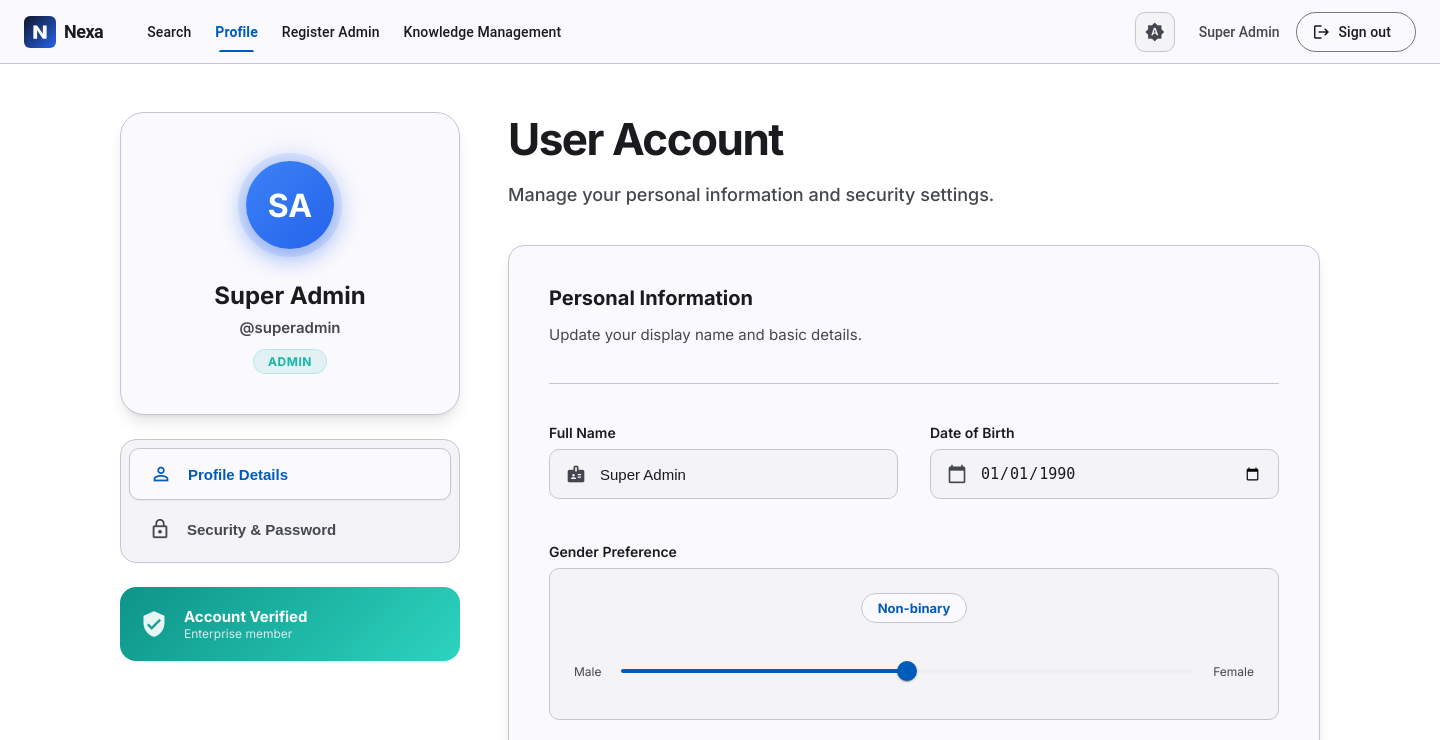
Scenario: Profile Management › entering a wrong current password shows an error
The width and height of the screenshot is (1440, 740).
Click the button "Security & Password" at {"x": 290, "y": 529}, box x1=129 y1=504 x2=451 y2=554
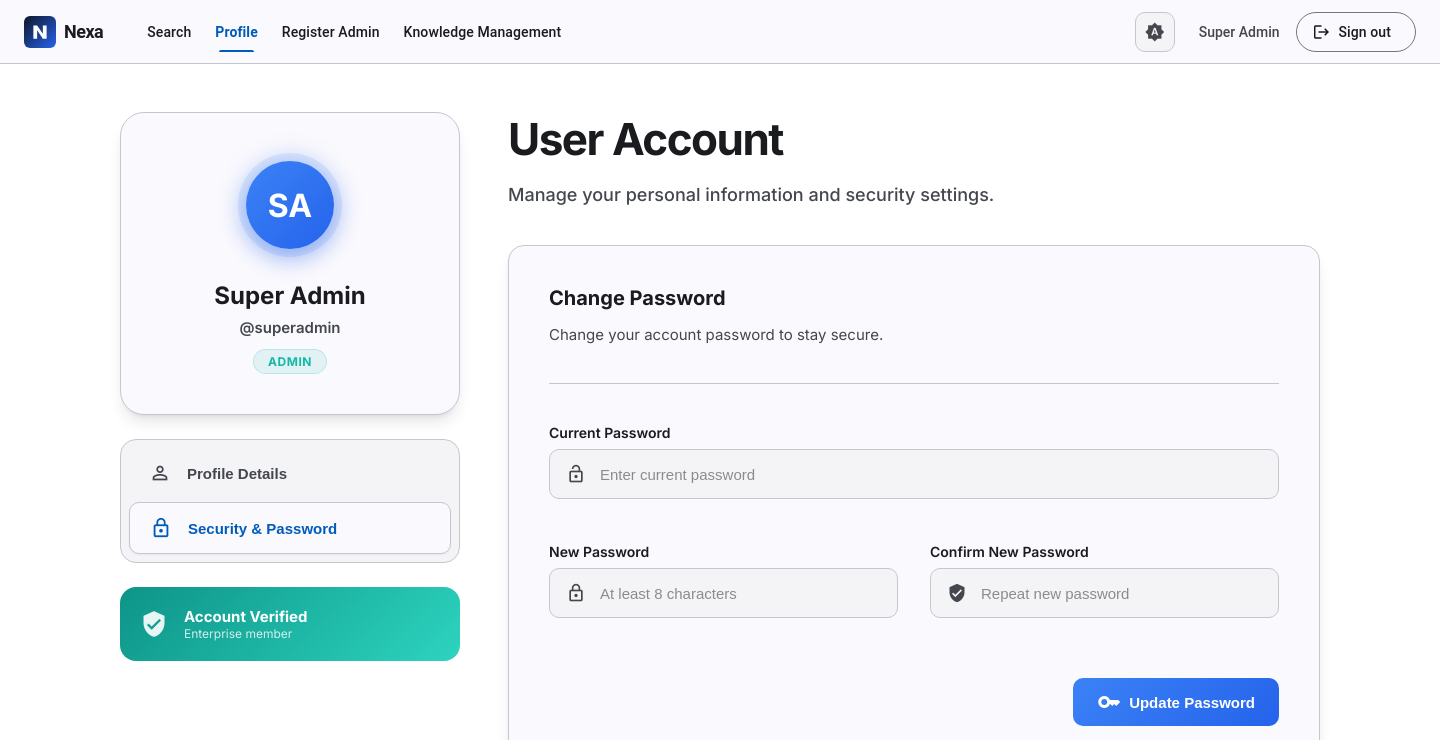
Type "wrongcurrentpassword" into the password field with id "s-current" at {"x": 930, "y": 474}, box x1=598 y1=450 x2=1262 y2=498
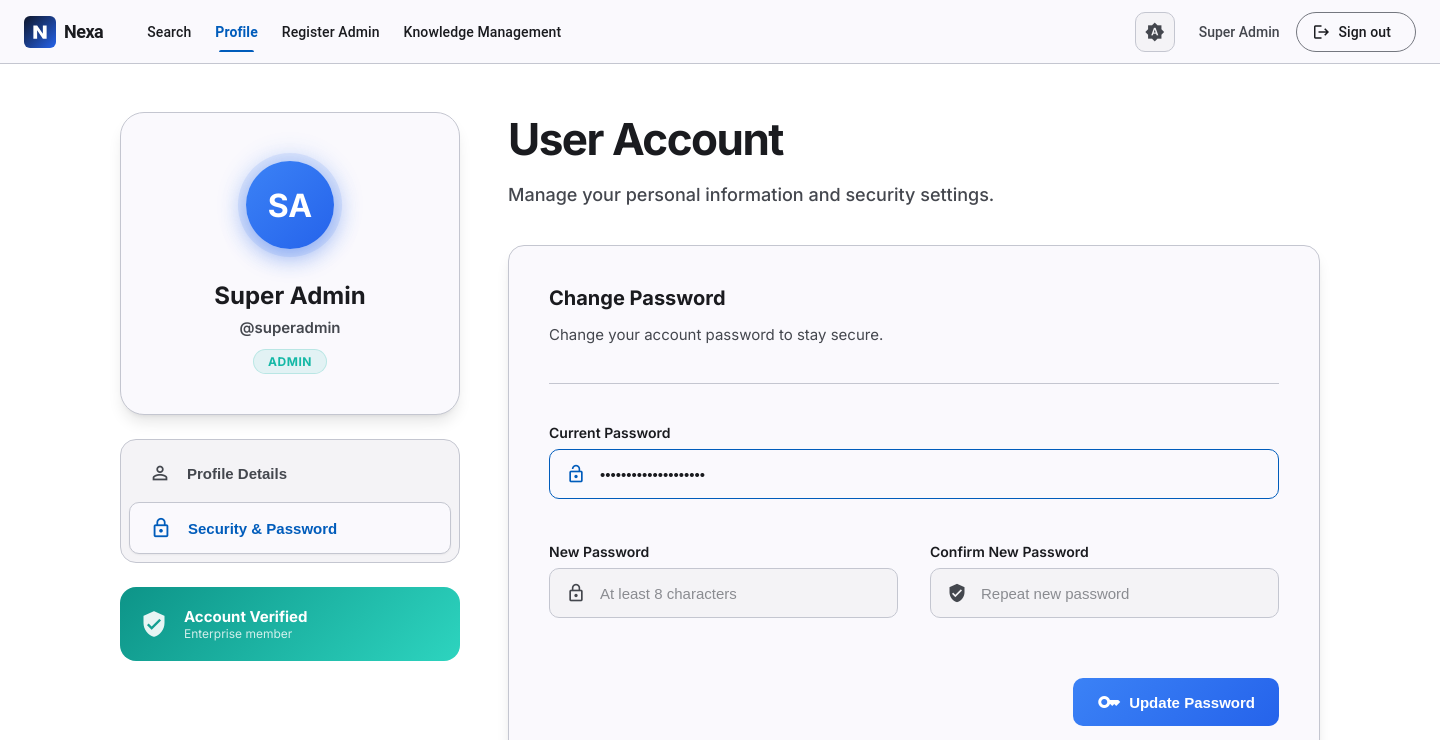
Type "newsecurepassword" into the password field with id "s-new" at {"x": 740, "y": 593}, box x1=598 y1=569 x2=881 y2=617
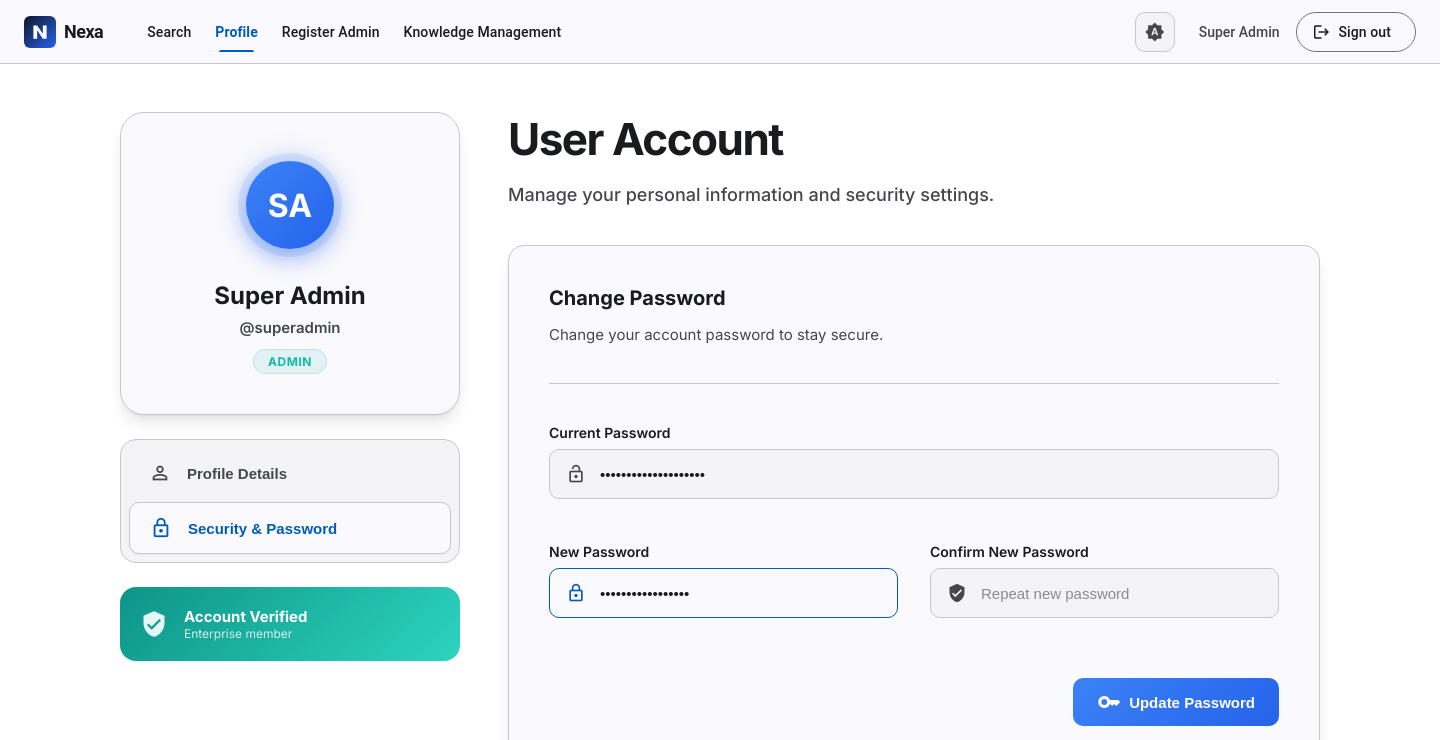
Type "newsecurepassword" into the password field with id "s-confirm" at {"x": 1121, "y": 593}, box x1=979 y1=569 x2=1262 y2=617
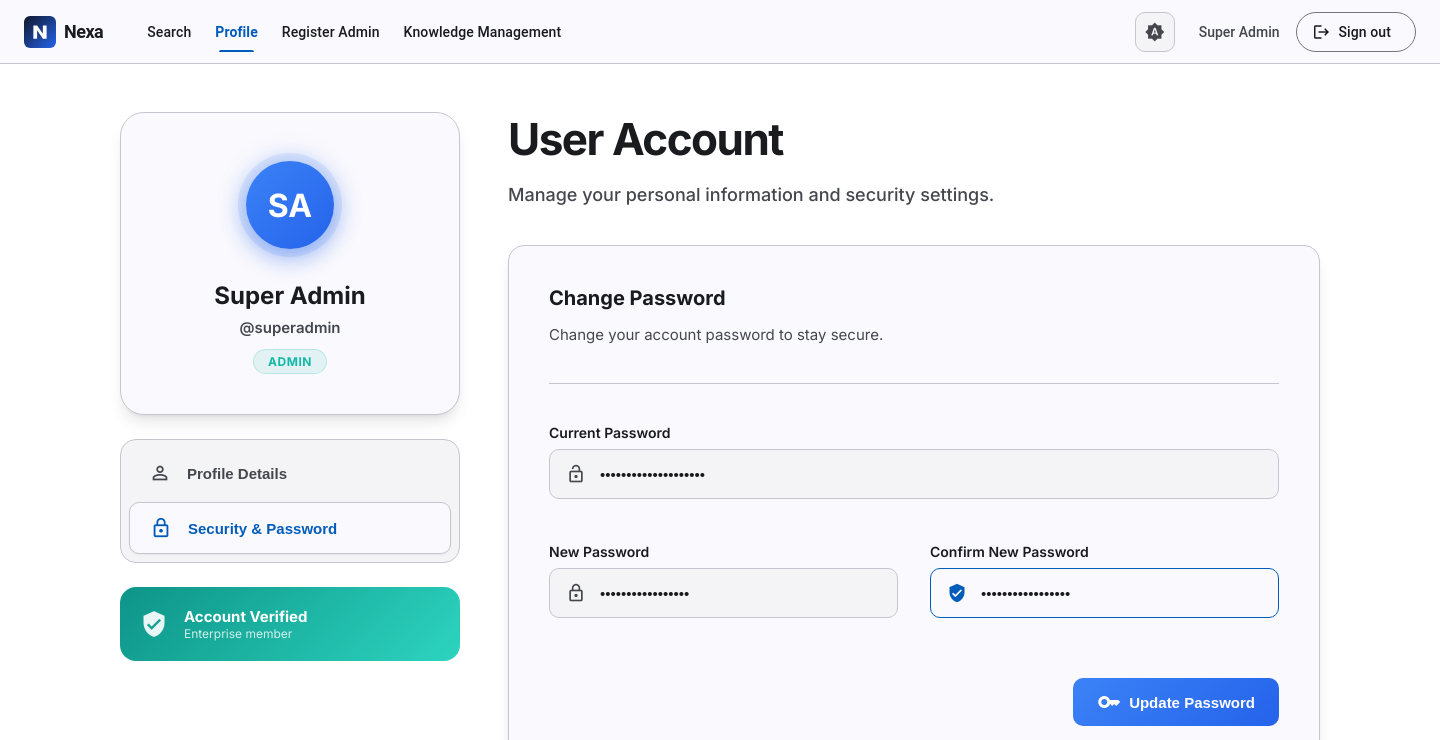
Click the button "Update Password" at {"x": 1176, "y": 702}, box x1=1073 y1=678 x2=1279 y2=726
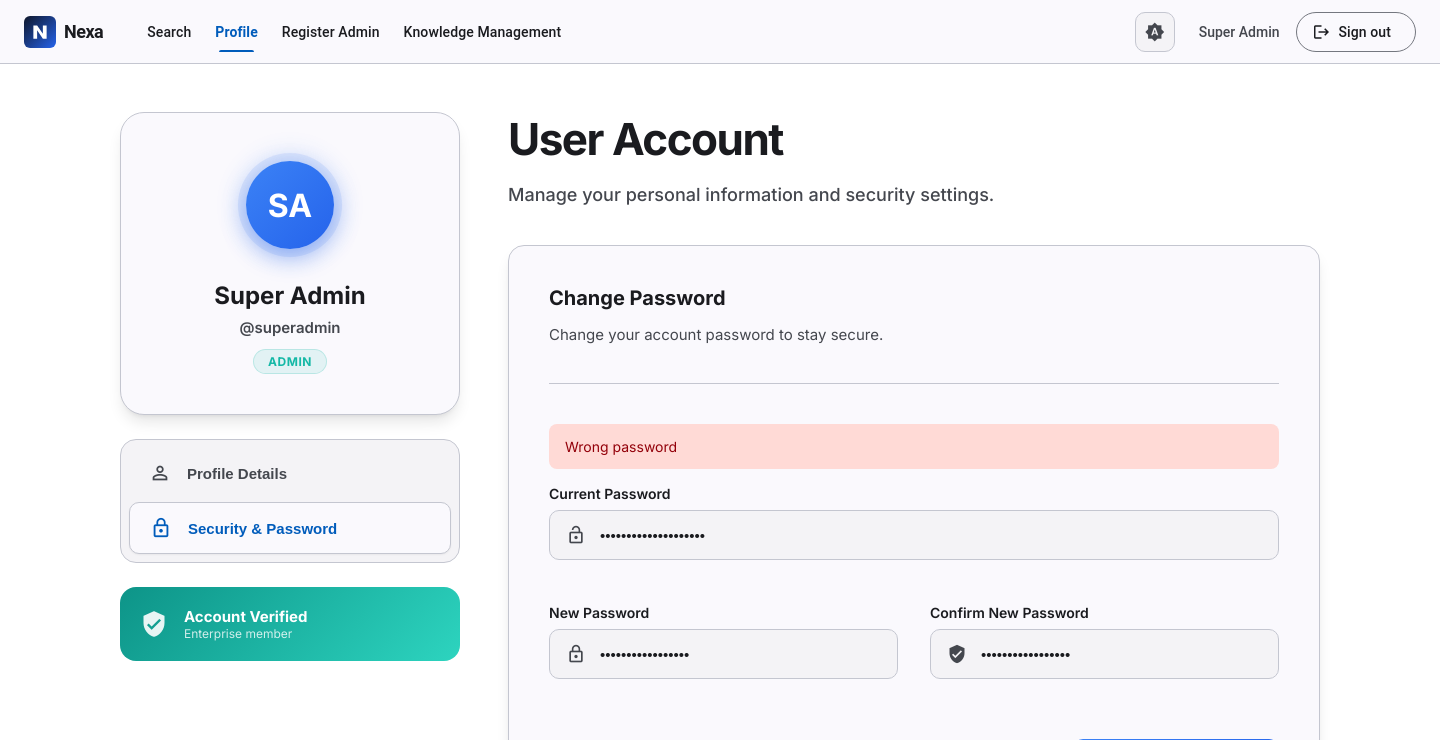
Result: the text "Wrong password" is shown at x1=549 y1=424 x2=1279 y2=469
